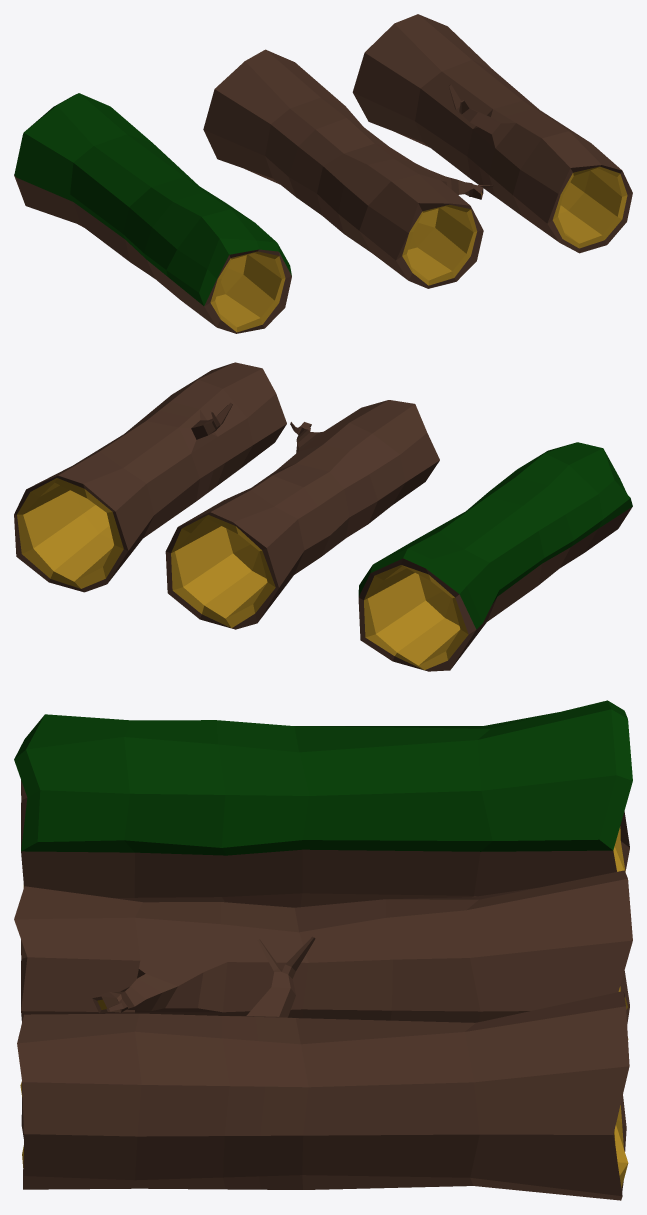
Rendered from logs_.fbx.
The picture shows the model from 3 angles, top to bottom: view 1: azimuth 30°, elevation 25°; view 2: azimuth 150°, elevation 25°; view 3: azimuth 270°, elevation 25°; orthographic projection. The views are drawn at different scales.
Parts seen in each view (by area): view 1: log_001, log_002, log_003; view 2: log_001, log_002, log_003; view 3: log_003, log_001, log_002.
Boxes of the visible parts, <box> form: log_001: <box>14,93,291,333</box>; log_002: <box>203,49,493,288</box>; log_003: <box>352,14,632,253</box>; log_001: <box>358,442,632,671</box>; log_002: <box>165,400,439,629</box>; log_003: <box>14,362,286,592</box>; log_003: <box>17,936,629,1200</box>; log_001: <box>14,700,632,907</box>; log_002: <box>14,870,632,1039</box>.
Bounding box in the file's own units: 1581 × 403 × 1088.
